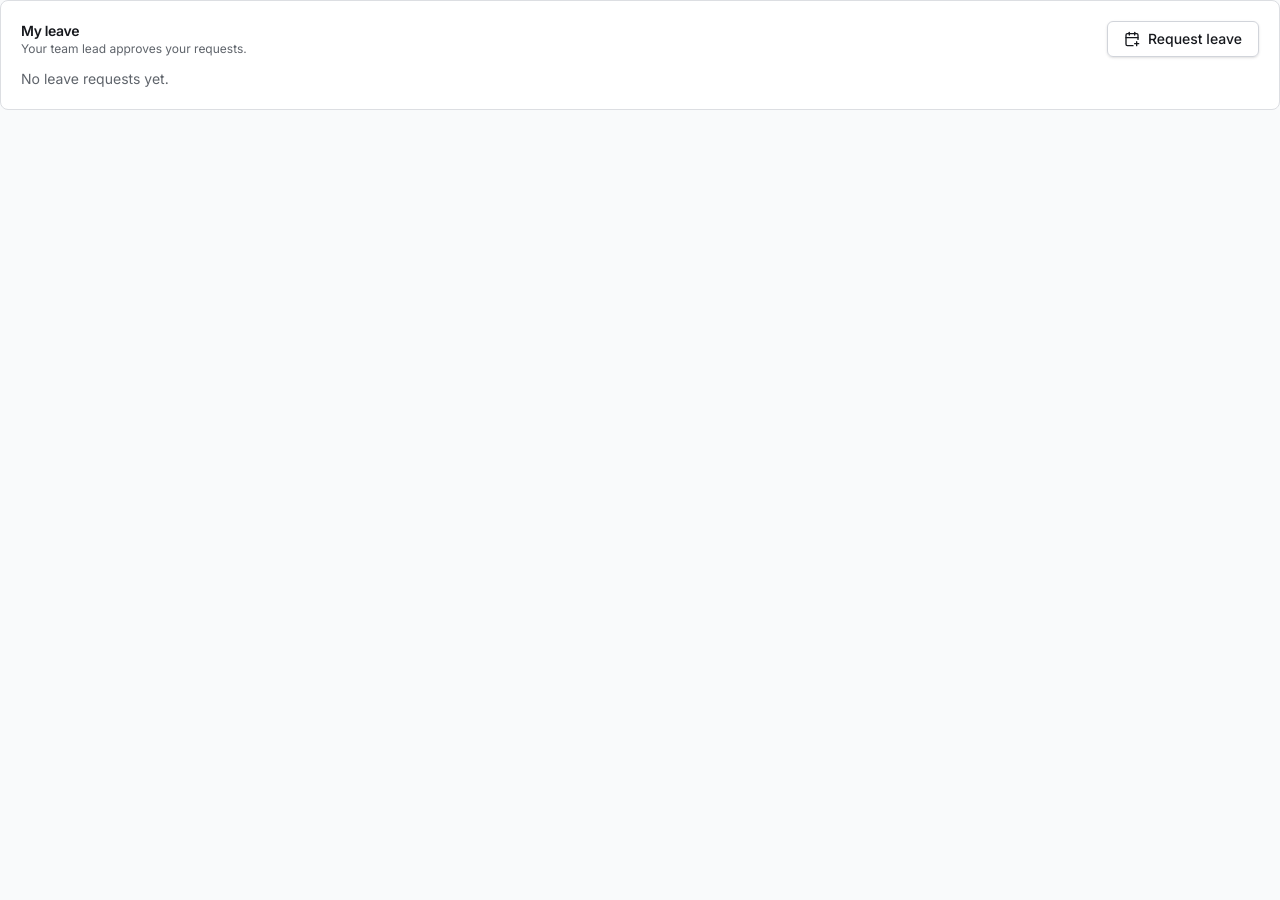
Test case: three roles: admin, team lead, artist › anyone requests their own leave
Later steps or results of the test are not shown.
Click the button "Request leave". click: (1183, 39)
box: [1107,21,1259,57]
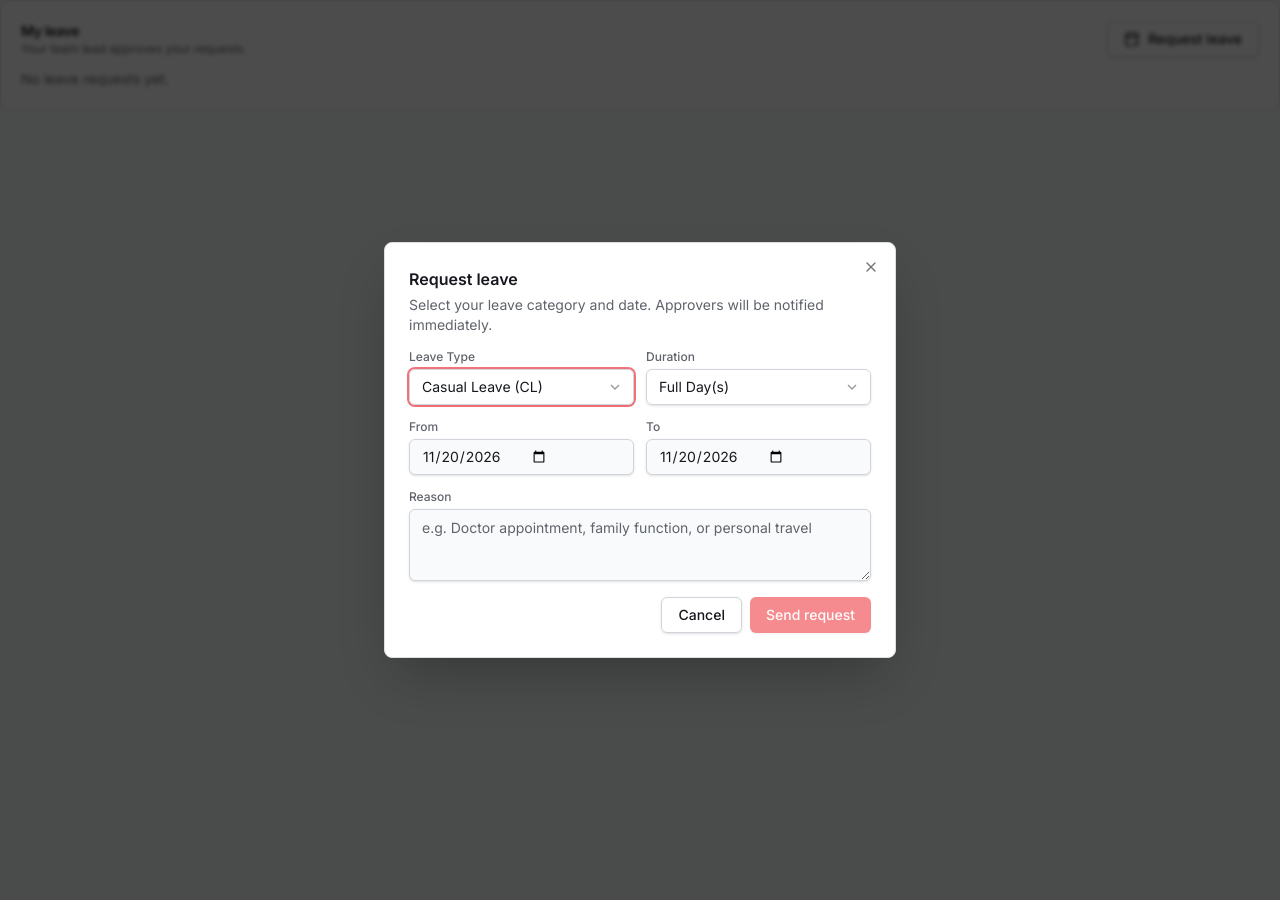
Expected: the date field labelled "From" holds "2026-11-20", [409,439,634,475]
